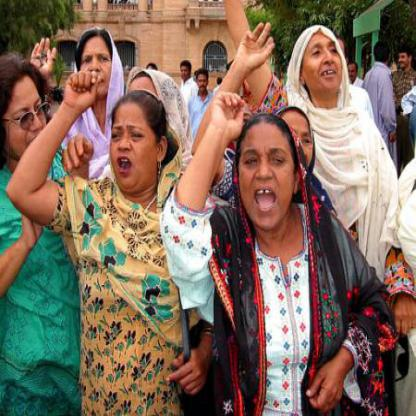face: (239, 115, 295, 231), (110, 93, 162, 194), (1, 68, 52, 167), (301, 25, 344, 98), (274, 111, 316, 182), (81, 33, 117, 99), (400, 50, 411, 71), (200, 73, 210, 93), (182, 63, 191, 80)
